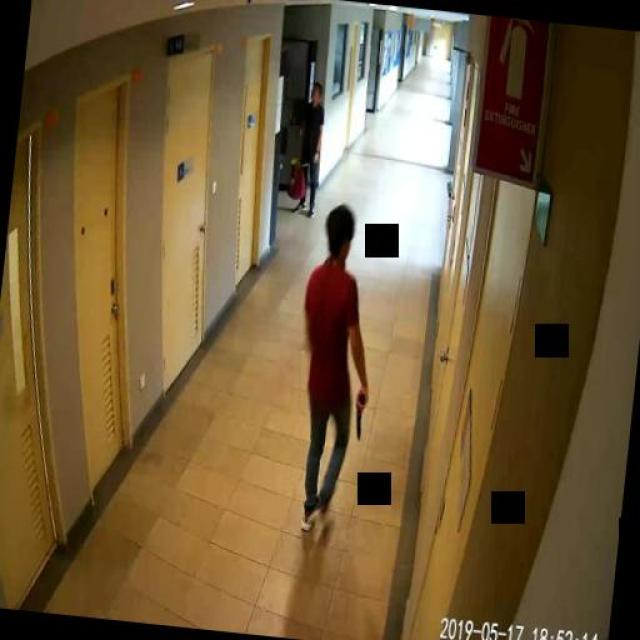gun: (352, 388, 368, 437)
